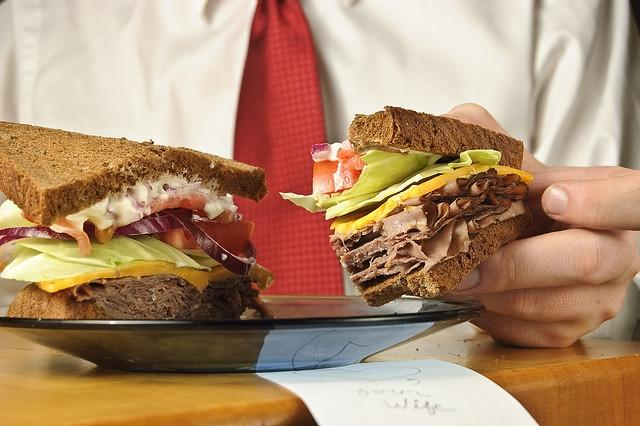lettuce: (326, 149, 502, 220), (12, 236, 210, 271), (316, 149, 428, 209)
onion: (161, 208, 257, 276), (112, 215, 185, 236), (310, 144, 332, 158)
tomato: (152, 220, 255, 256), (21, 209, 91, 257), (312, 156, 362, 198), (152, 194, 204, 213)
